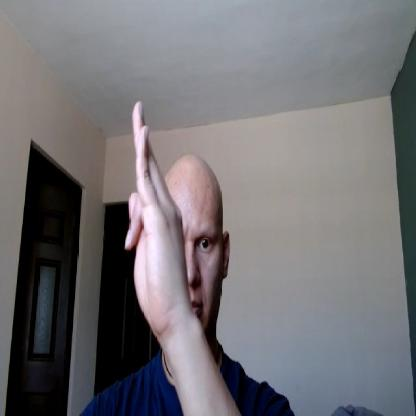F: (125, 98, 186, 326)
